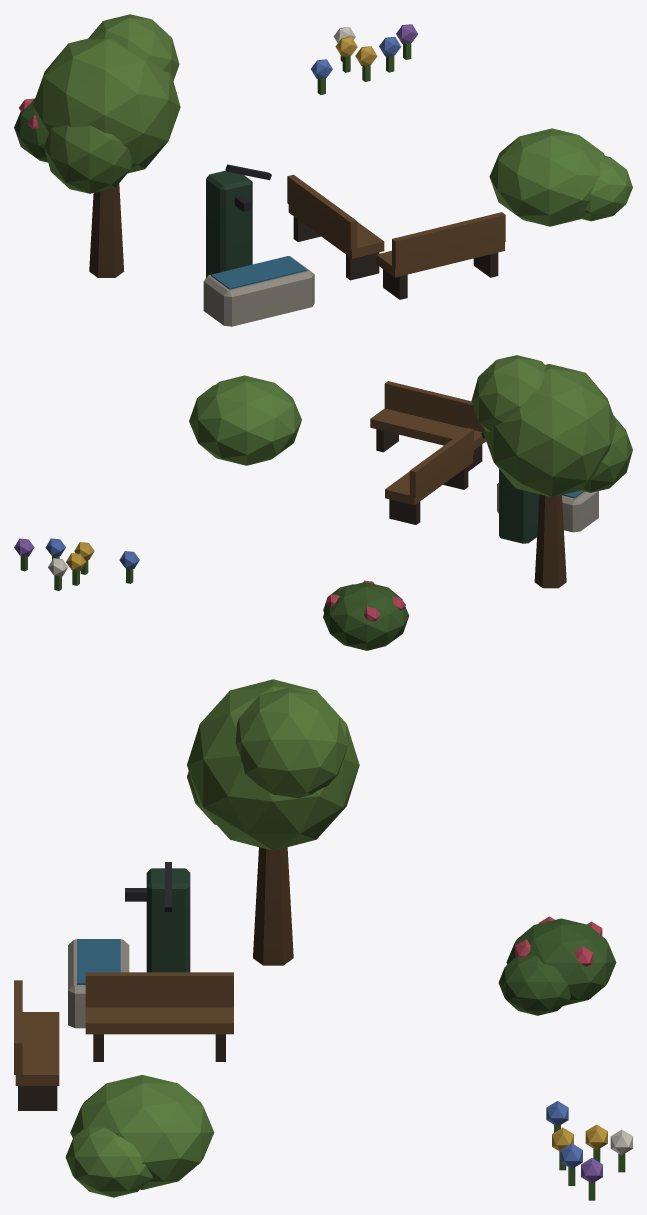
The model's file is garden.glb.
The picture shows the model from 3 angles, top to bottom: view 1: azimuth 30°, elevation 25°; view 2: azimuth 150°, elevation 25°; view 3: azimuth 270°, elevation 25°; orthographic projection. The views are drawn at different scales.
Parts seen in each view (by area): view 1: garden_model; view 2: garden_model; view 3: garden_model.
Boxes of the visible parts, <box> form: garden_model: <box>14,14,632,326</box>; garden_model: <box>14,355,632,650</box>; garden_model: <box>14,679,632,1200</box>.
Size of the model in its own units: 0.807 by 0.3589 by 0.709.
